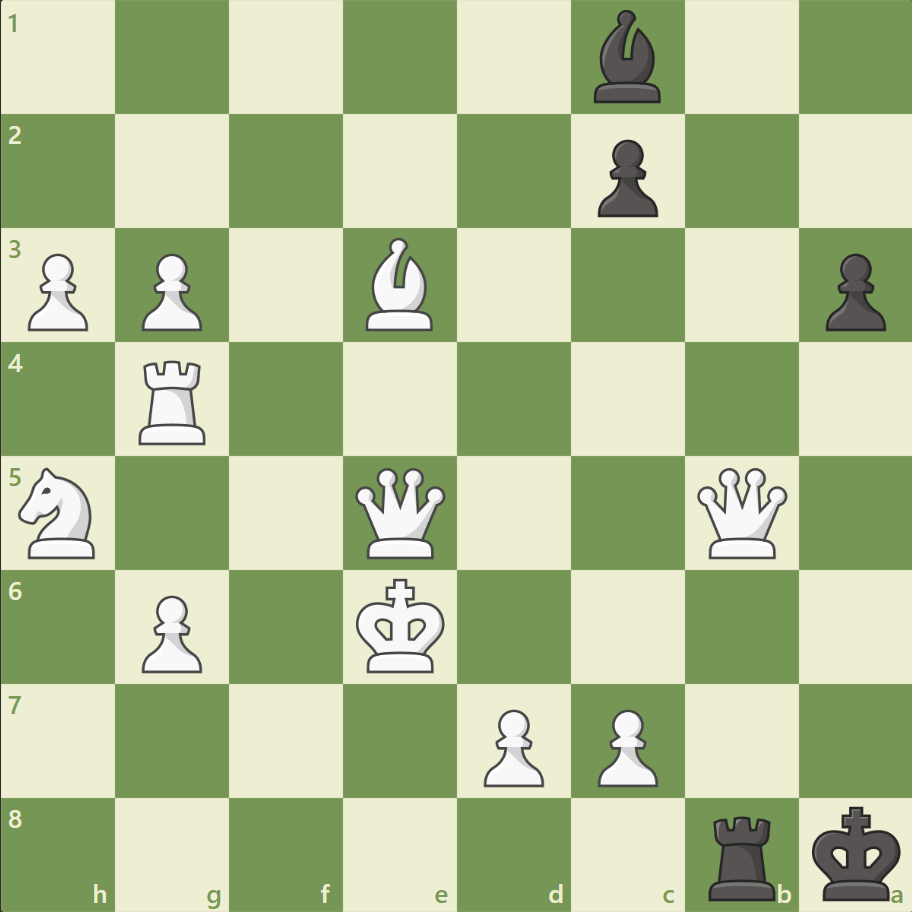B: (358, 233, 442, 336)
K: (351, 571, 451, 679)
N: (11, 461, 108, 564)
P: (474, 700, 549, 791), (133, 586, 208, 677), (133, 246, 208, 337), (20, 246, 95, 337), (588, 700, 662, 791)
Q: (691, 463, 790, 562), (351, 463, 450, 562)
R: (133, 352, 215, 449)
b: (585, 6, 669, 109)
k: (806, 798, 906, 906)
p: (815, 246, 889, 337), (588, 132, 662, 223)
r: (700, 806, 783, 904)
